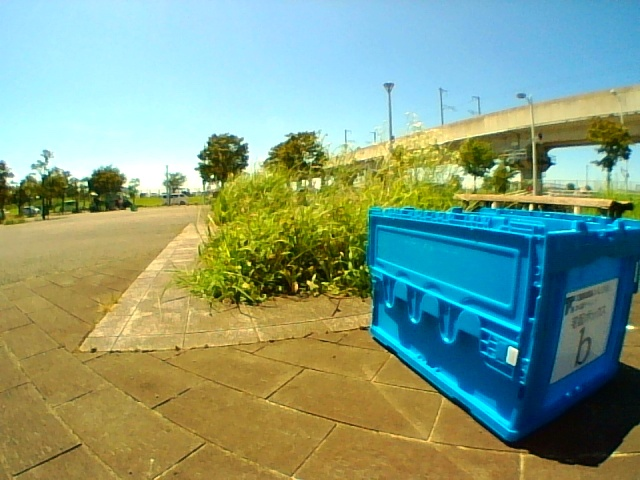blue_box: (373, 218, 623, 365)
tag_b: (572, 299, 597, 365)
